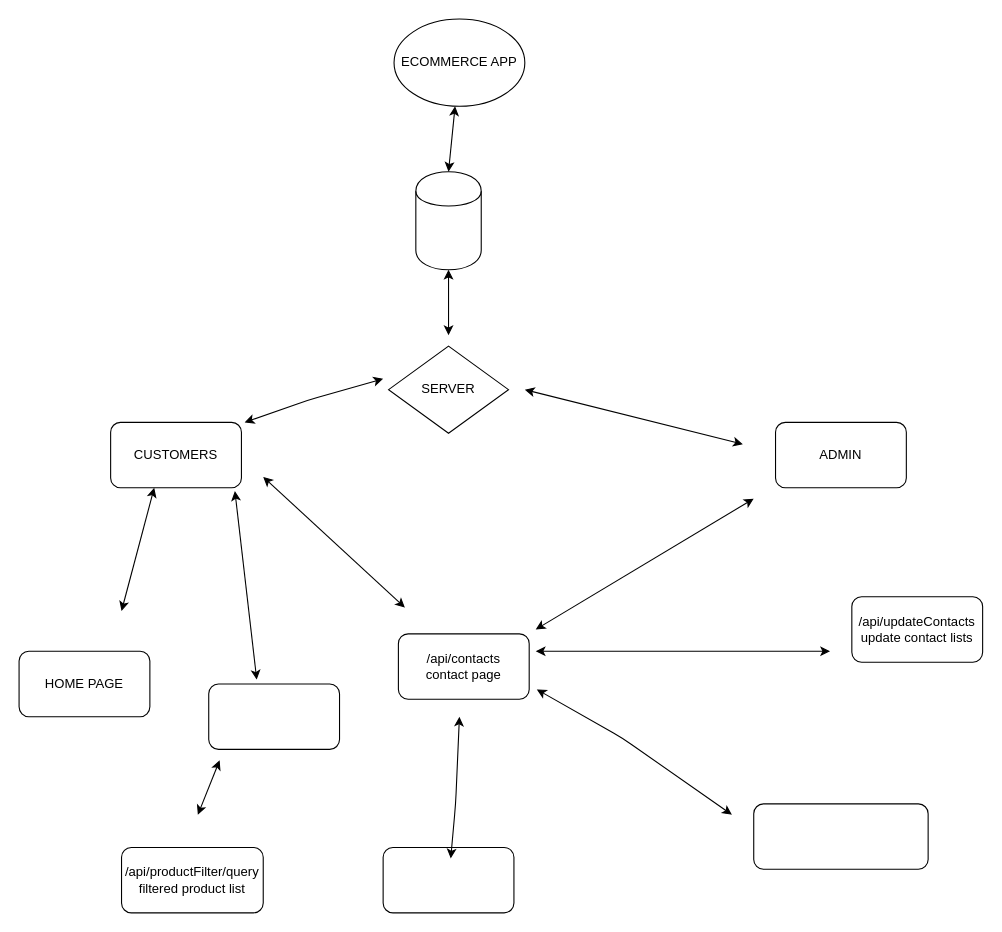
Image size: 1002x932. Some labels were removed from this diagram. Each missing label, with the centre of its shape:
"/api/deleteContact" belongs at (x=840, y=836).
"/api/products product list" belongs at (x=274, y=716).
"api/newContact" belongs at (x=448, y=879).
"DB" belongs at (x=448, y=220).
